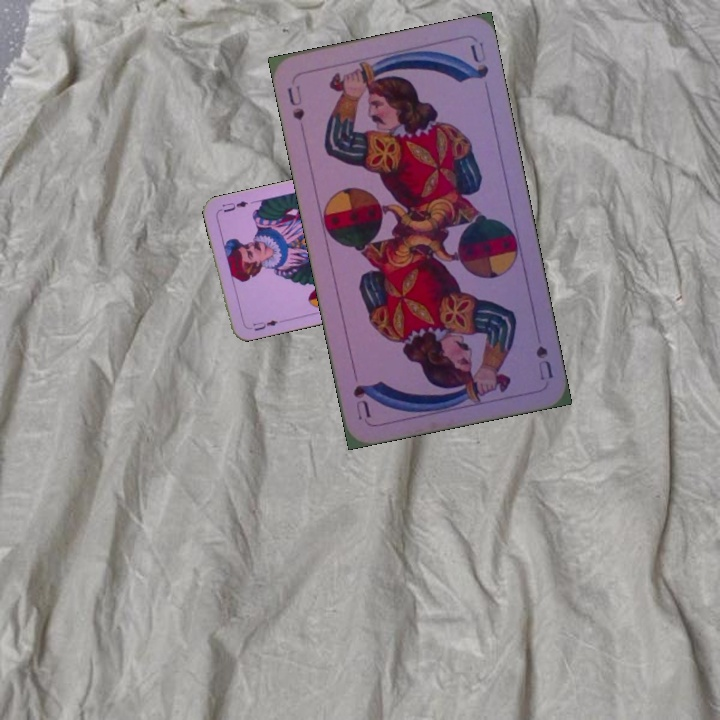EU: (243, 316, 284, 333)
SU: (531, 342, 556, 383), (283, 81, 307, 123)
